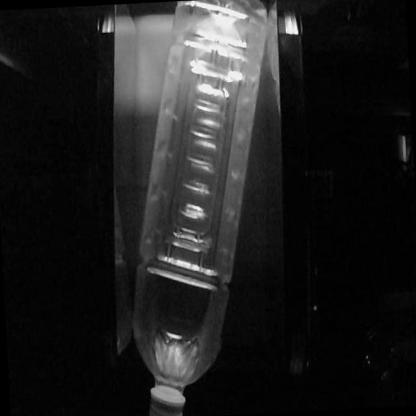Plastic Bottle: (134, 0, 268, 408)
